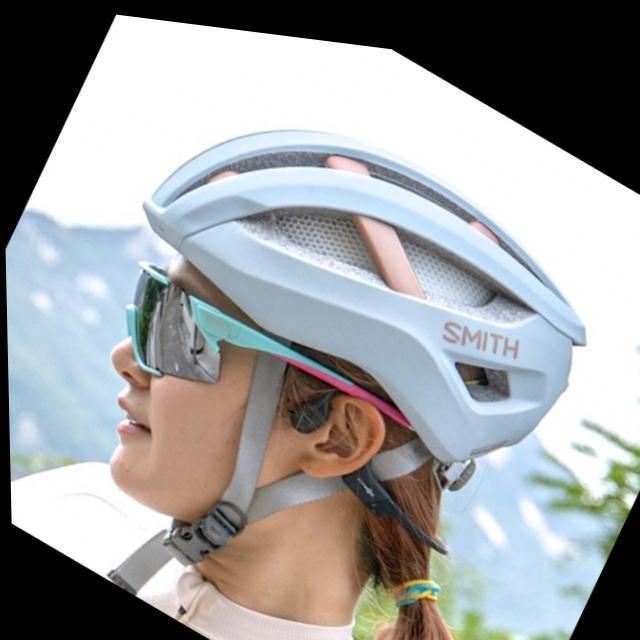Helmet: (92, 108, 590, 542)
